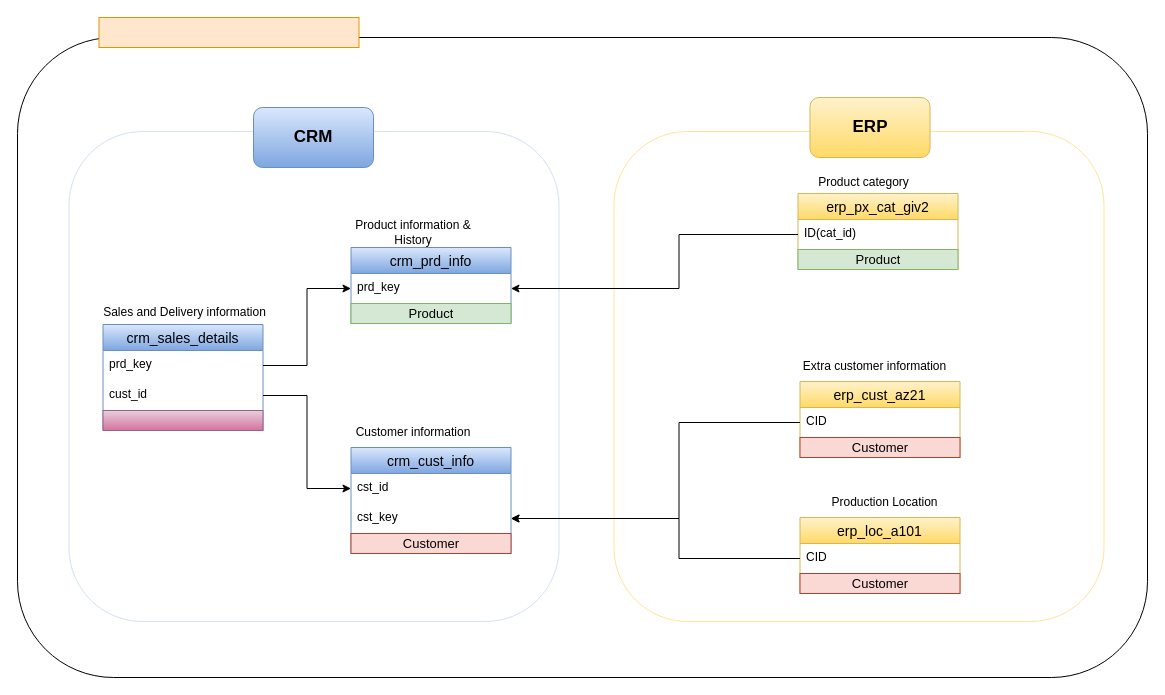
The diagram is 1165 pixels wide and 695 high, and some of its shapes have lost their labels. The centre of each missing label's shape, as x and y in pixels:
"Data Object Relation" goes at point (228, 32).
"Sales" goes at point (182, 420).
